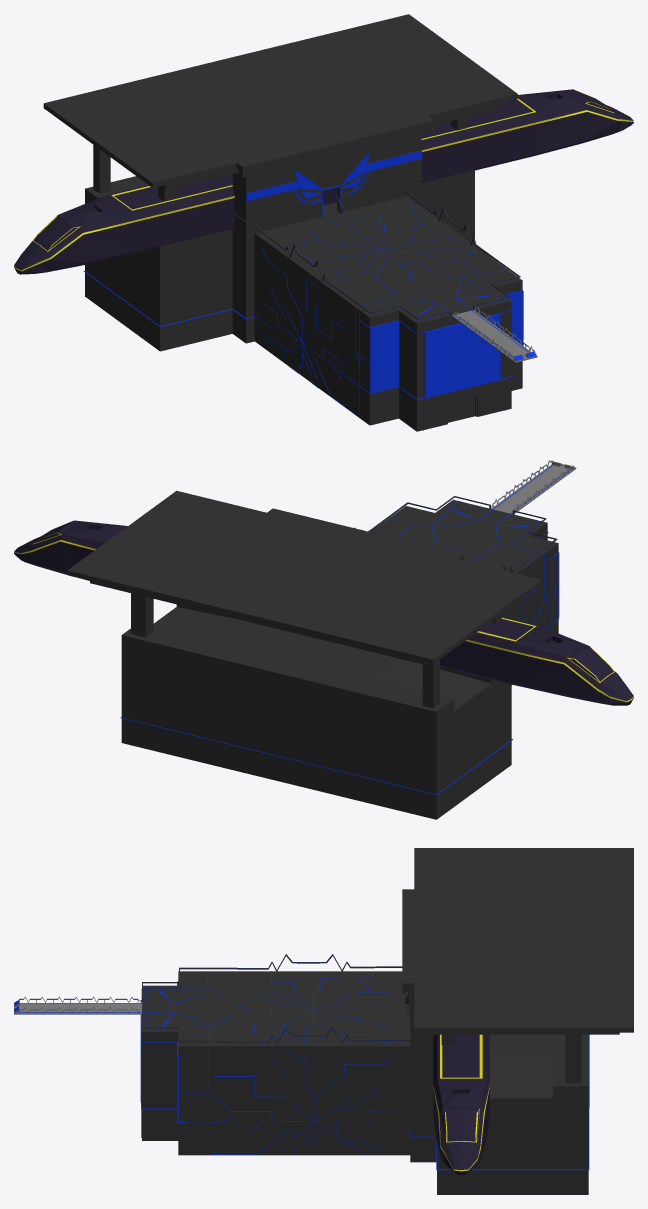
The model's file is Building_TrainStation4.fbx.
3 views of the same model, one above another, from view 1: azimuth 30°, elevation 25°; view 2: azimuth 150°, elevation 25°; view 3: azimuth 270°, elevation 25° (orthographic).
Visible parts, largest first — view 1: Object133, Object134, Billboards (×2), Props_Bridge, Props_TrainStationFence, Billboards001; view 2: Object133, Object134, Props_Bridge, Props_TrainStationFence; view 3: Object133, Object134, Props_Bridge, Props_TrainStationFence.
Boxes of the visible parts, bbox=[...] form: Object133: bbox=[43, 14, 522, 431]; Object134: bbox=[14, 89, 633, 274]; Billboards (×2): bbox=[369, 314, 500, 397]; Props_Bridge: bbox=[451, 307, 537, 362]; Props_TrainStationFence: bbox=[256, 191, 520, 319]; Billboards001: bbox=[504, 291, 523, 345]; Object133: bbox=[67, 490, 559, 819]; Object134: bbox=[14, 520, 633, 705]; Props_Bridge: bbox=[490, 460, 576, 514]; Props_TrainStationFence: bbox=[354, 496, 557, 572]; Object133: bbox=[141, 848, 633, 1194]; Object134: bbox=[433, 1034, 489, 1175]; Props_Bridge: bbox=[14, 996, 142, 1014]; Props_TrainStationFence: bbox=[142, 954, 409, 1044].
Size of the model in its own units: 274 by 77.23 by 237.
